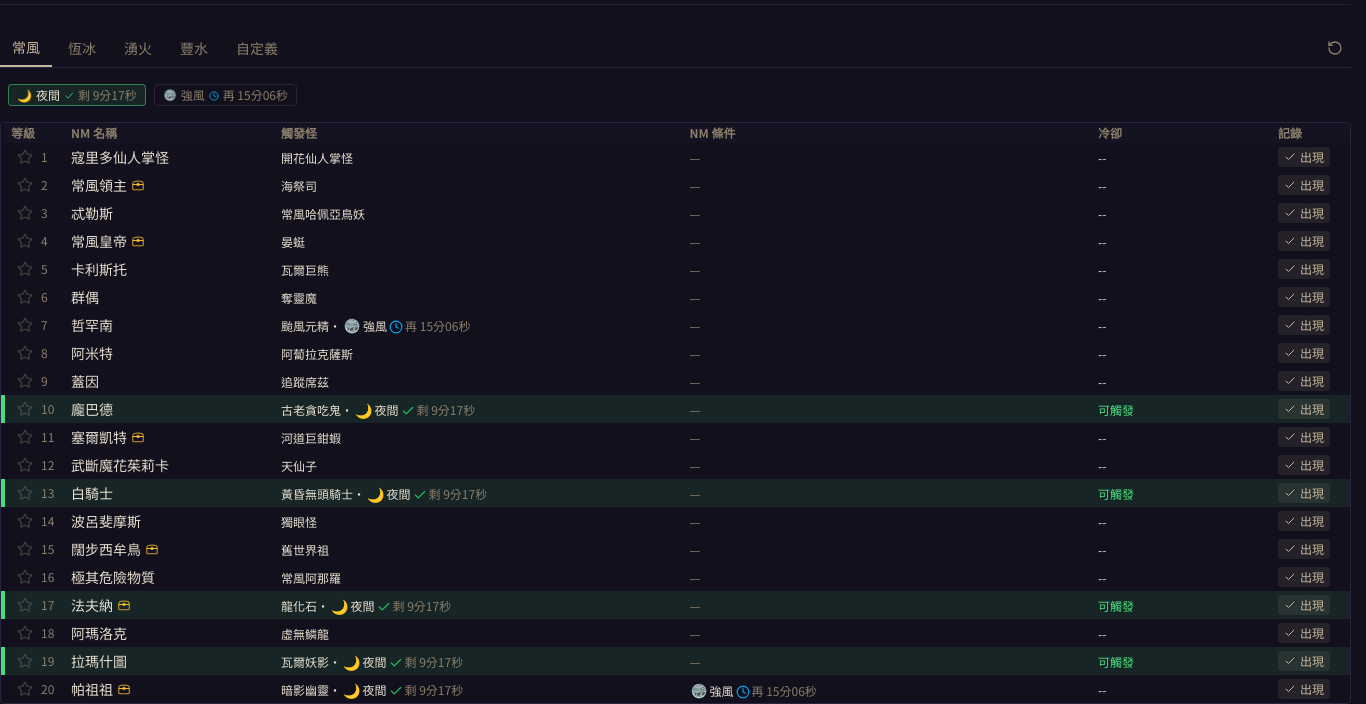
Test: EurekaNmPage — 自定義 tab integration › shows pinned NMs from multiple zones in 自定義 tab
(page scrolled)
On Anemos tab (default), pin Pazuzu (Lv 20, last in zone)
What coordinates should you click on to do the following:
click the button named "Pin 帕祖祖"
I would click on:
 (25, 689)
Its box is [13,677,37,701].
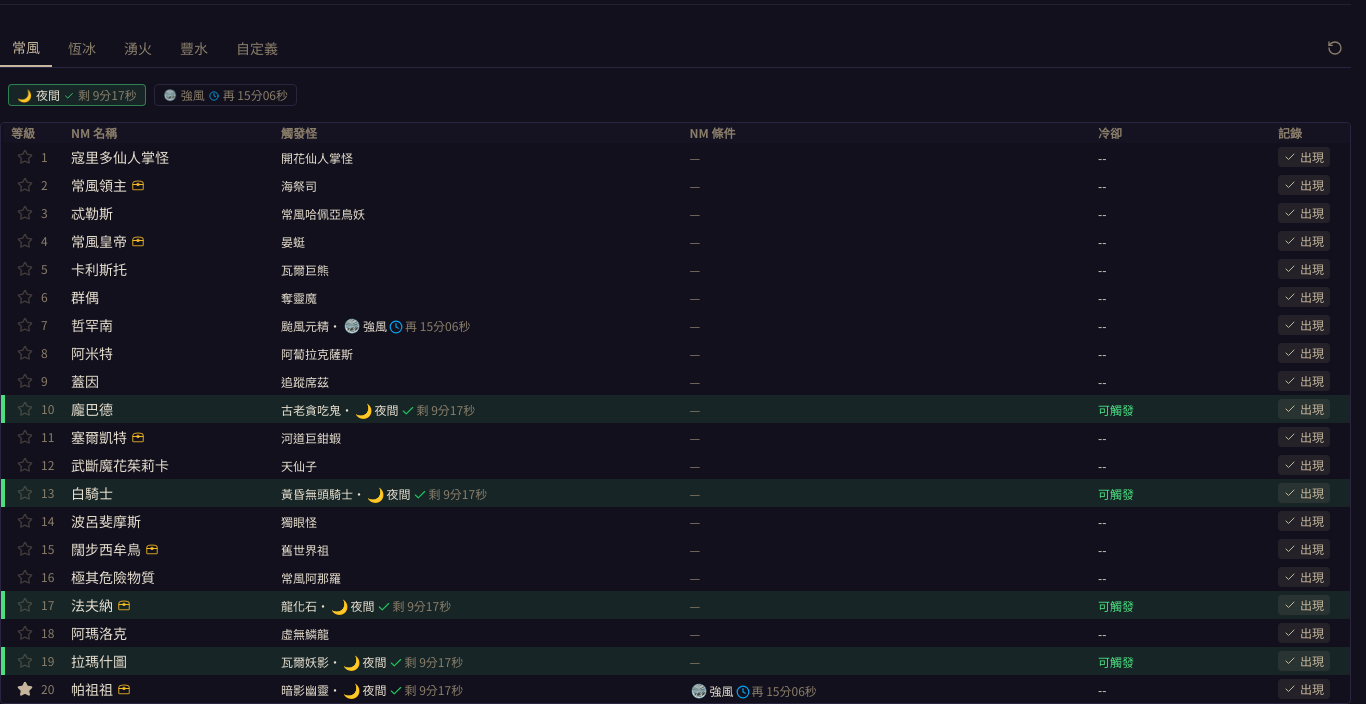
Switch to 恆冰 tab + pin Cassie (id: copycat-cassie, Lv 36)
What coordinates should you click on to do the following:
click the tab "恆冰"
I would click on:
 (82, 48)
Its box is [56,29,108,67].
(page scrolled)
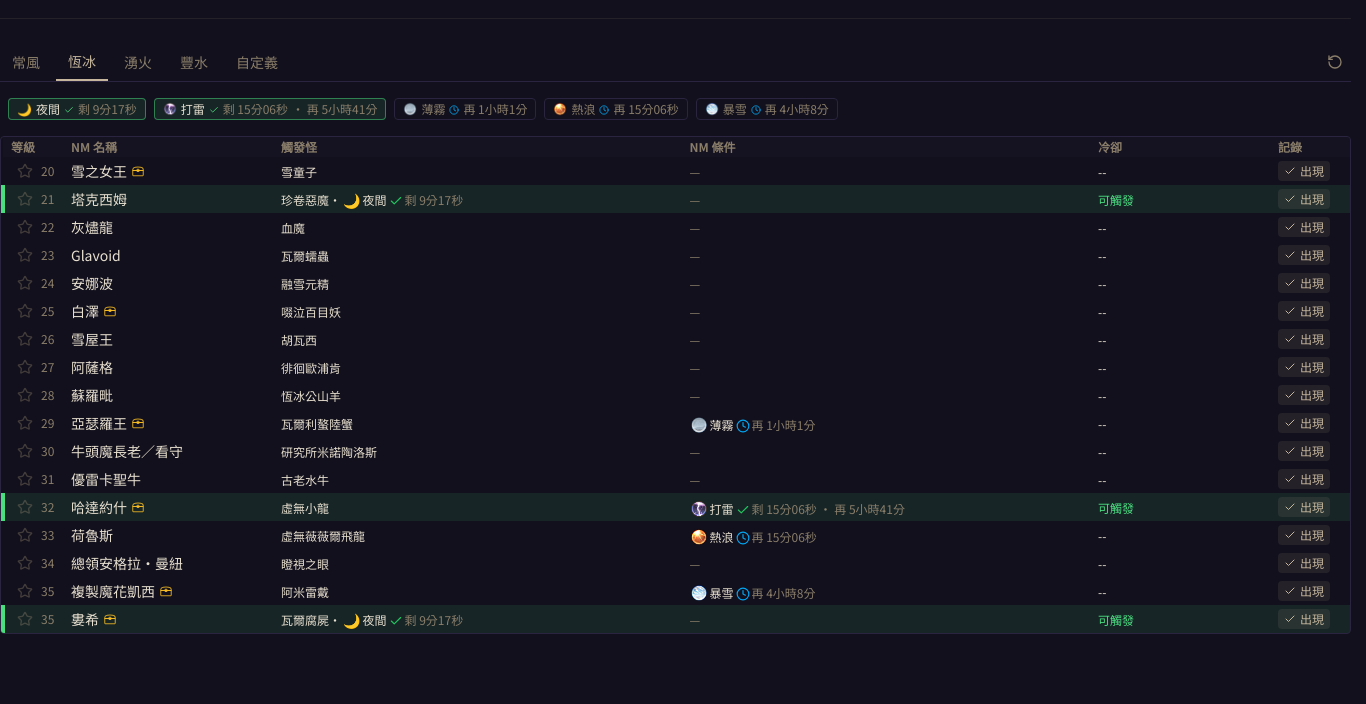
What coordinates should you click on to do the following:
click the button named "Pin 複製魔花凱西"
I would click on:
 (25, 591)
Its box is [13,579,37,603].
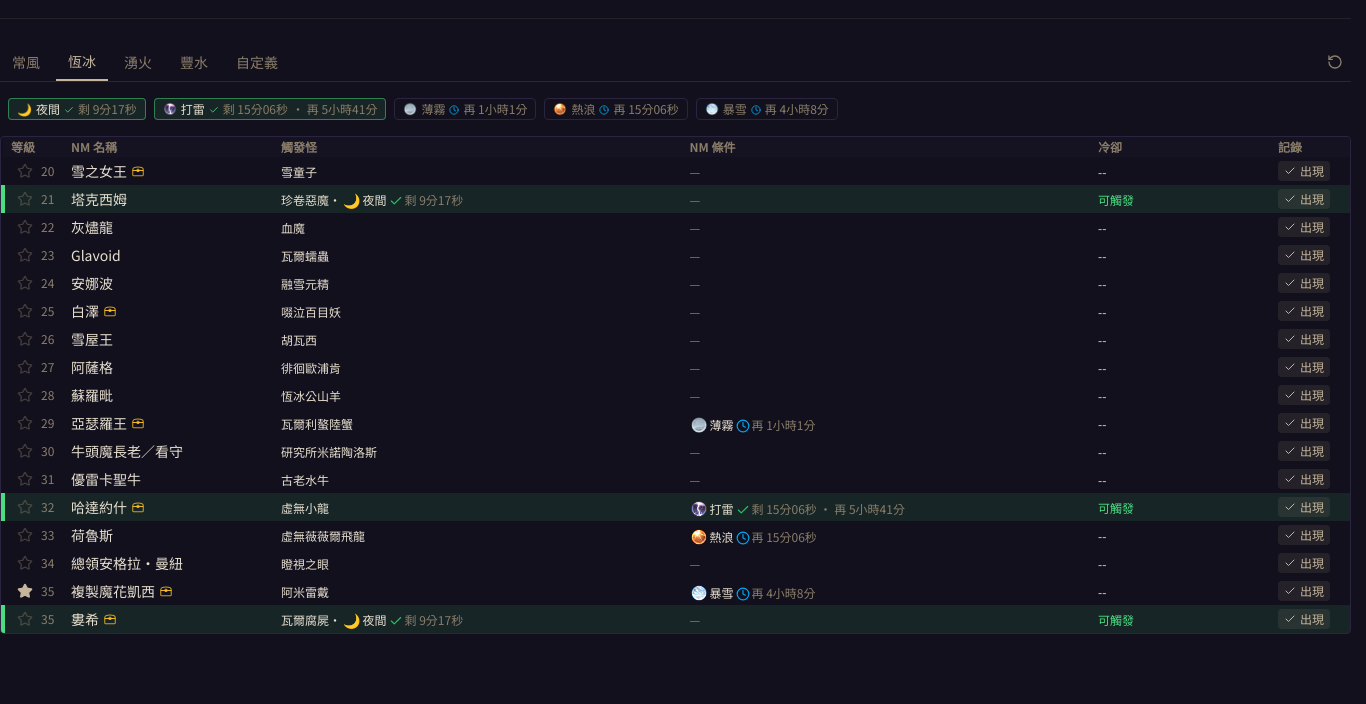
Switch to 自定義
What coordinates should you click on to do the following:
click the tab "自定義"
I would click on:
 (257, 62)
Its box is [224,43,290,81].
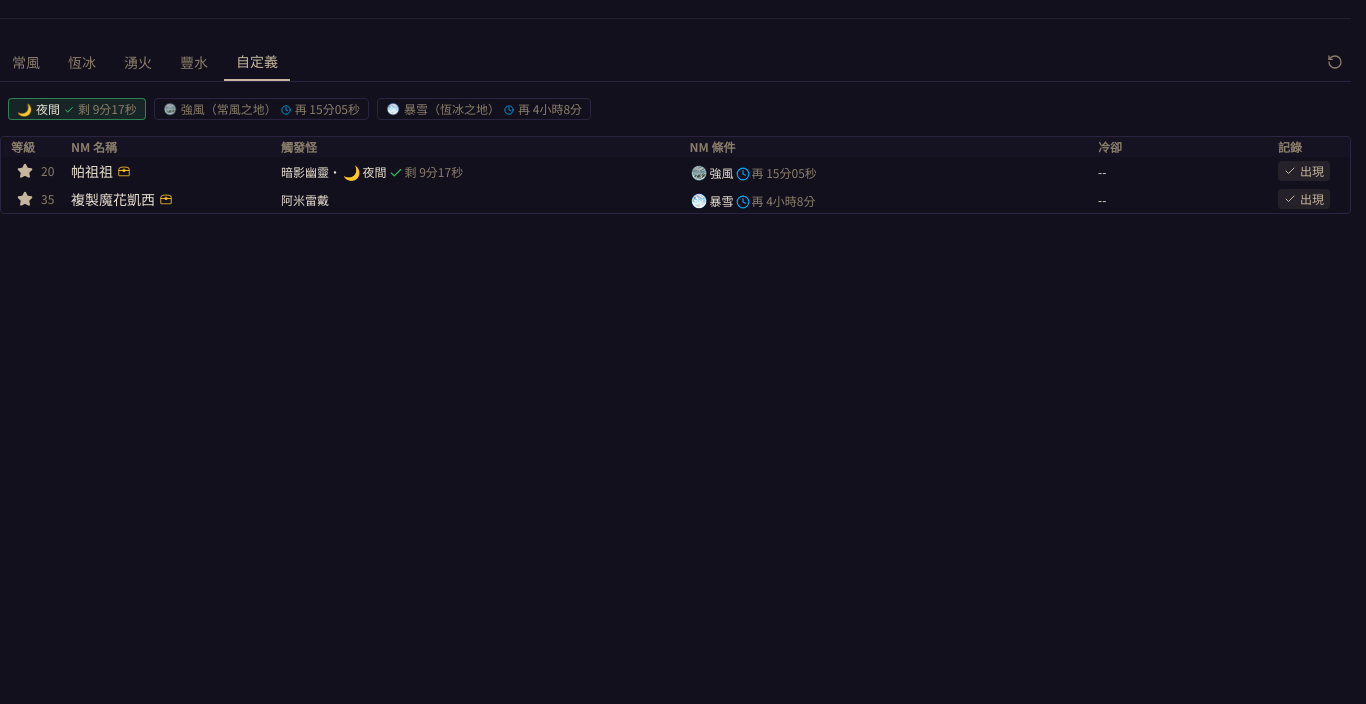
Expected: the text "複製魔花凱西" is shown, [71,189,155,209]
Expected: the text "帕祖祖" is shown, [71,161,113,181]
